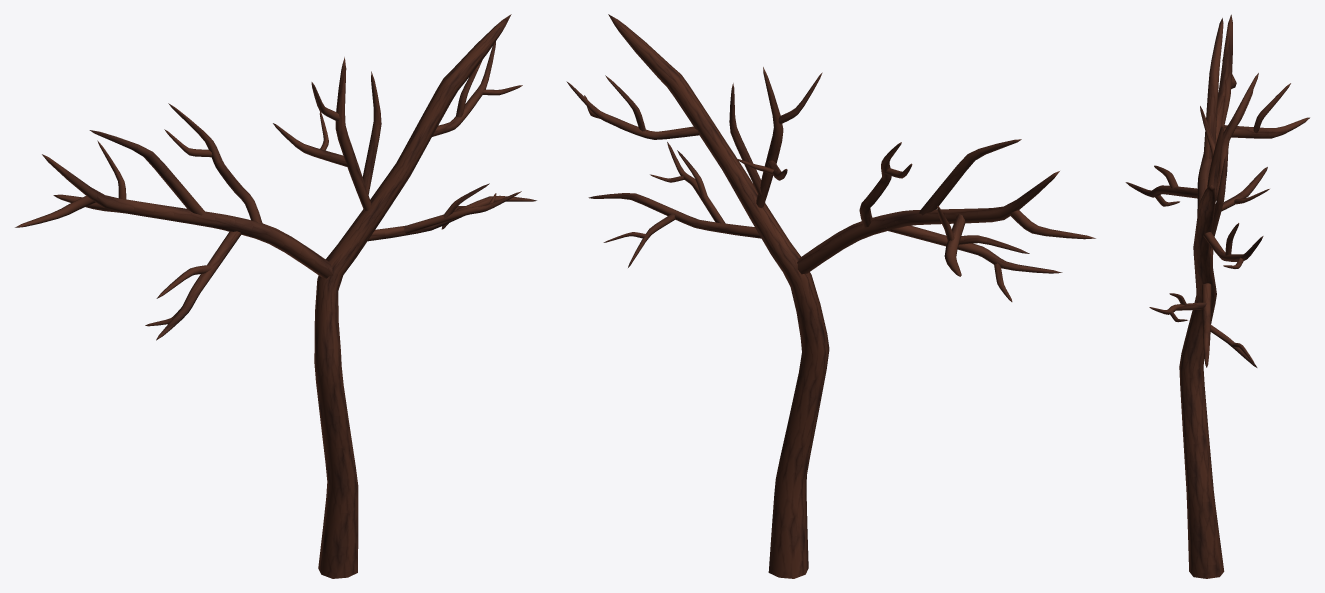
Rendered from dead_tree_4.glb.
The picture shows the model from 3 angles, left to right: view 1: azimuth 30°, elevation 25°; view 2: azimuth 150°, elevation 25°; view 3: azimuth 270°, elevation 25°; orthographic projection. The views are drawn at different scales.
Parts seen in each view (by area): view 1: DeadTree_42; view 2: DeadTree_42; view 3: DeadTree_42.
Boxes of the visible parts, bbox=[...] form: DeadTree_42: bbox=[15, 14, 536, 578]; DeadTree_42: bbox=[566, 14, 1095, 578]; DeadTree_42: bbox=[1125, 14, 1309, 578].
Bounding box in the file's own units: 4.85 × 4.61 × 1.67.
Materials: 1 (1 with a texture image).
